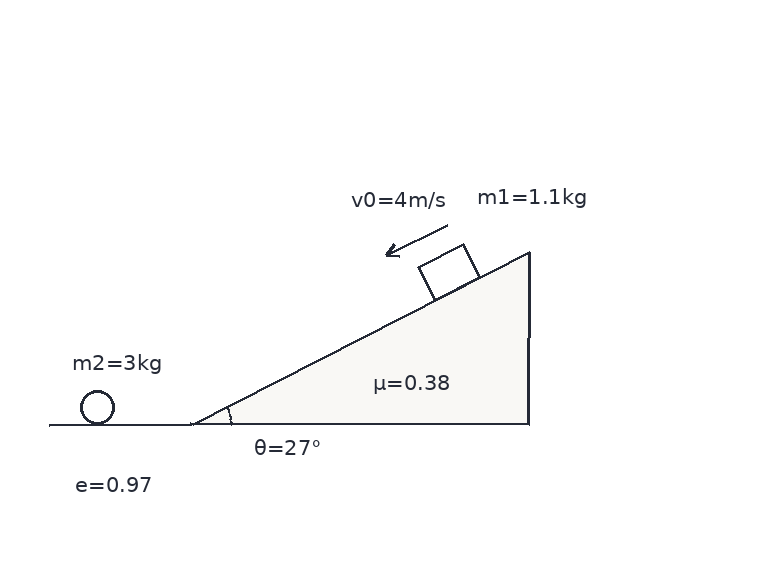ball: (78, 388, 116, 426)
block: (415, 242, 482, 302)
ramp: (189, 250, 531, 426)
